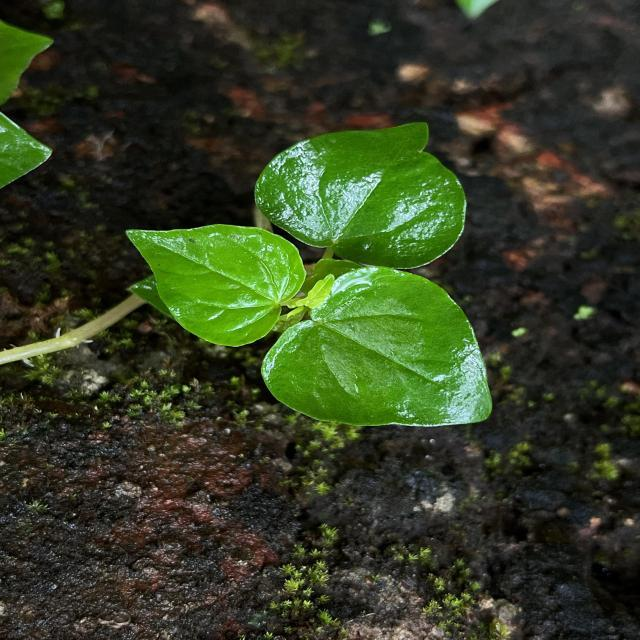Peperomia pellucida: (253, 261, 497, 431), (248, 115, 470, 274), (120, 219, 310, 350)
